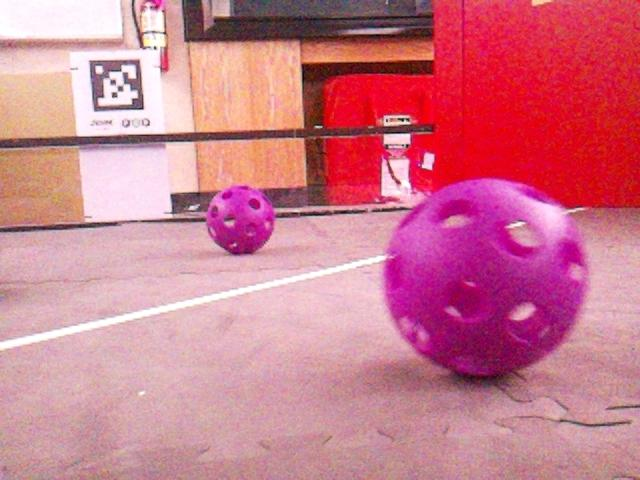Purple: (382, 180, 588, 377), (205, 184, 276, 255)
